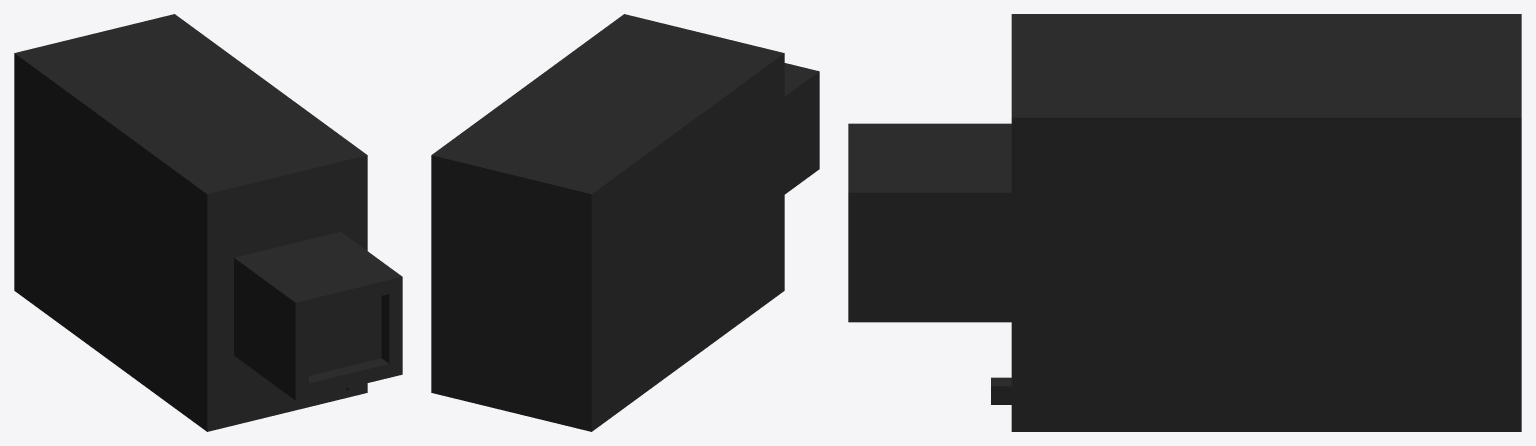
Rendered from survaillencecamera.obj.
3 views of the same model, side by side, from view 1: azimuth 30°, elevation 25°; view 2: azimuth 150°, elevation 25°; view 3: azimuth 270°, elevation 25° (orthographic). The views are drawn at different scales.
Visible parts, largest first — view 1: survaillencecamera; view 2: survaillencecamera; view 3: survaillencecamera.
Boxes of the visible parts, <box> form: survaillencecamera: <box>14,14,402,431</box>; survaillencecamera: <box>431,14,819,431</box>; survaillencecamera: <box>848,14,1521,431</box>.
Bounding box in the file's own units: 12 × 17 × 33.
Materials: 1 (1 with a texture image).
